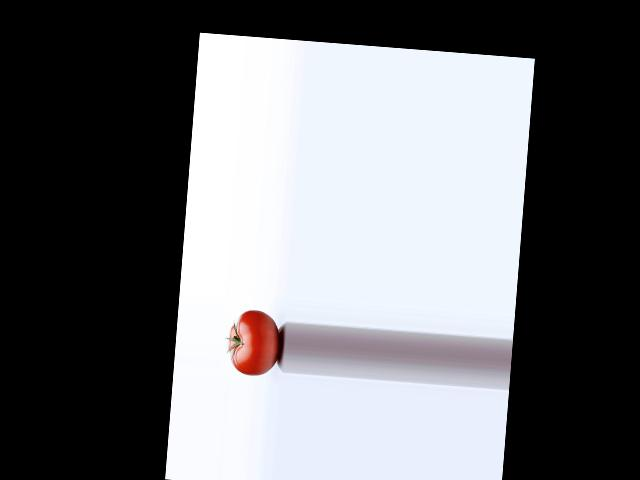tomato: (226, 308, 281, 377)
